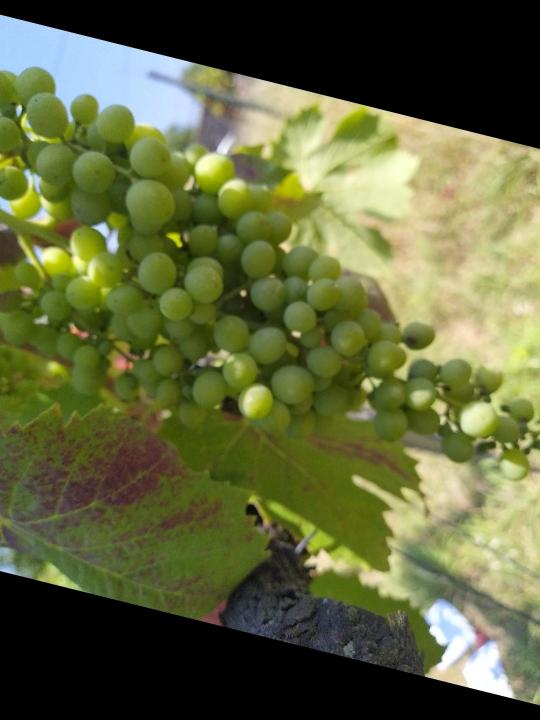grape: (0, 51, 540, 530)
